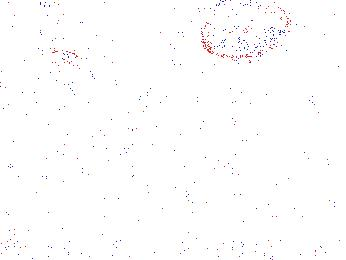moon jellyfish: (114, 83, 215, 170), (201, 1, 292, 59), (203, 89, 264, 163), (25, 49, 93, 101), (1, 1, 58, 56)
